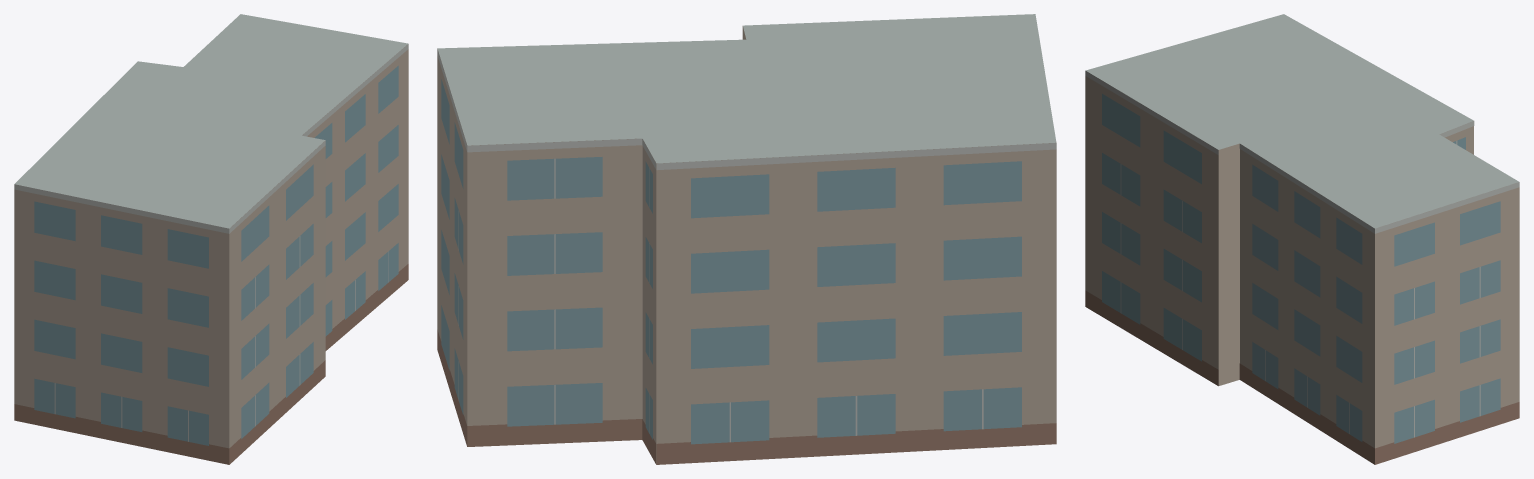
The model's file is survey-upis-32826916.glb.
3 views of the same model, side by side, from view 1: azimuth 30°, elevation 25°; view 2: azimuth 150°, elevation 25°; view 3: azimuth 270°, elevation 25° (orthographic). The views are drawn at different scales.
Parts seen in each view (by area): view 1: survey-upis-32826916.tmp; view 2: survey-upis-32826916.tmp; view 3: survey-upis-32826916.tmp.
Boxes of the visible parts, box(x1,y1,x2,y2) form: survey-upis-32826916.tmp: box(14, 14, 408, 464); survey-upis-32826916.tmp: box(437, 14, 1056, 464); survey-upis-32826916.tmp: box(1085, 14, 1519, 464).
Bounding box in the file's own units: 21.24 × 10.9 × 18.16.
